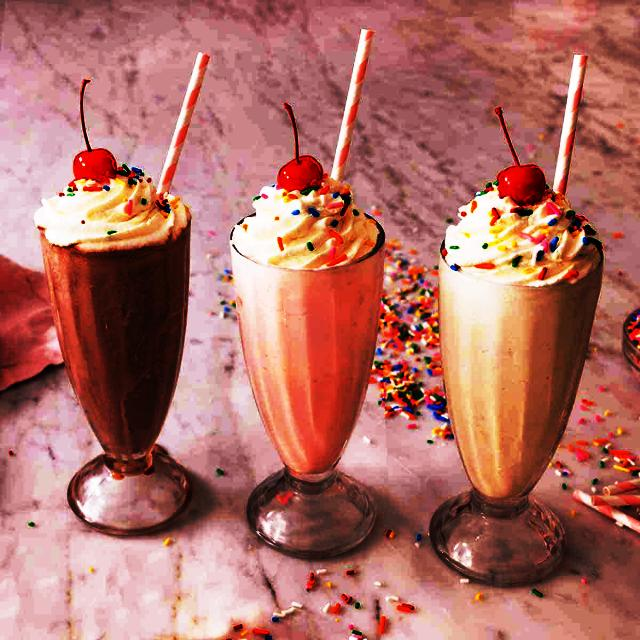drink: (444, 107, 604, 585), (228, 96, 388, 557), (34, 77, 194, 538)
